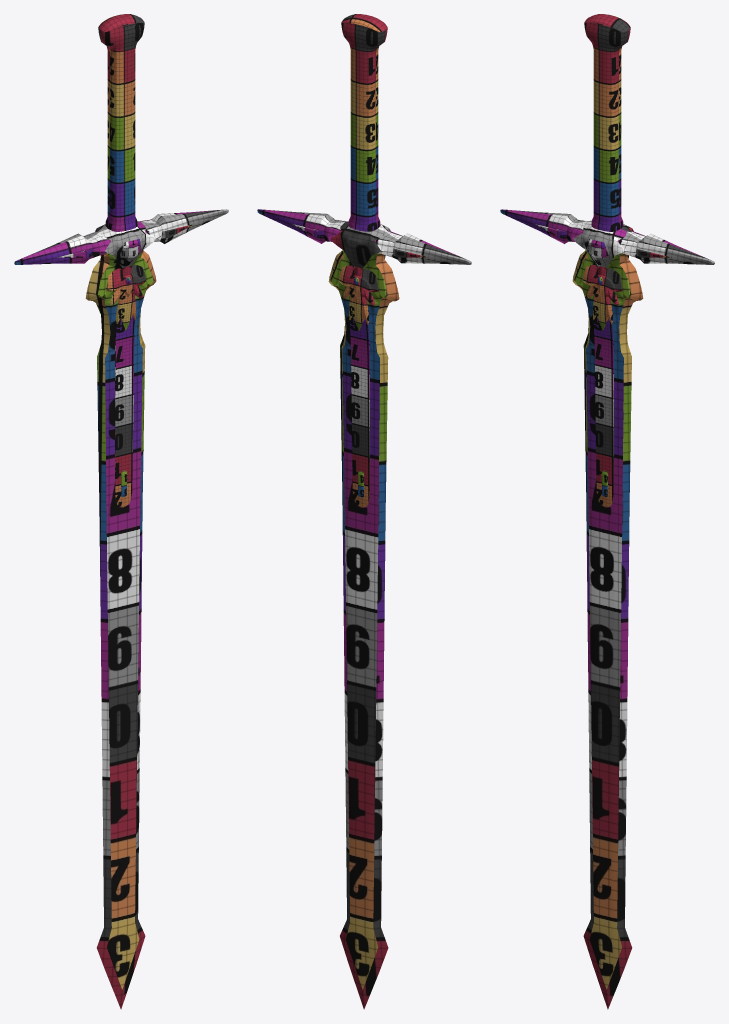
The model's file is SM_DarkRepulser.fbx.
The picture shows the model from 3 angles, left to right: view 1: azimuth 30°, elevation 25°; view 2: azimuth 150°, elevation 25°; view 3: azimuth 330°, elevation 25°; orthographic projection.
Parts seen in each view (by area): view 1: SM_Dark_Repulser; view 2: SM_Dark_Repulser; view 3: SM_Dark_Repulser.
Boxes of the visible parts, x1=… form: SM_Dark_Repulser: x1=14, y1=14, x2=228, y2=1009; SM_Dark_Repulser: x1=257, y1=14, x2=471, y2=1009; SM_Dark_Repulser: x1=500, y1=14, x2=714, y2=1009.
Size of the model in its own units: 2.98 by 13.2 by 0.5513.
Materials: 1 (1 with a texture image).
